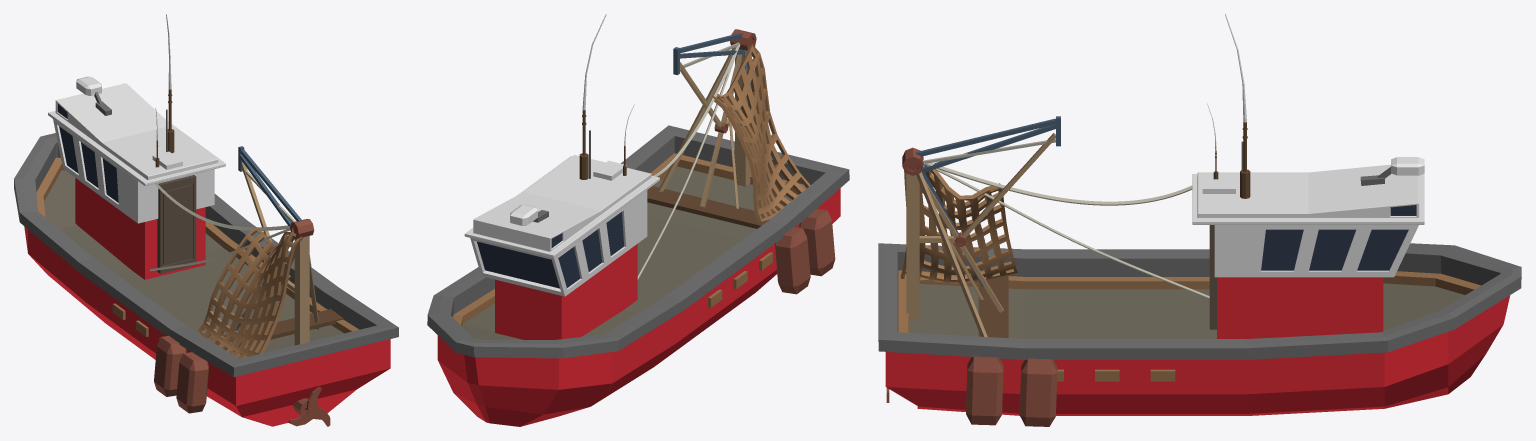
Rendered from low_poly_fishing_boat.glb.
3 views of the same model, side by side, from view 1: azimuth 30°, elevation 25°; view 2: azimuth 150°, elevation 25°; view 3: azimuth 270°, elevation 25° (orthographic). The views are drawn at different scales.
Parts seen in each view (by area): view 1: Cube; view 2: Cube; view 3: Cube.
Part boxes in pixels (x1,y1,x2,y2): Cube: (14,14,398,426); Cube: (427,14,849,426); Cube: (878,14,1521,426).
Bounding box in the file's own units: 3.3 × 5.08 × 7.73.
